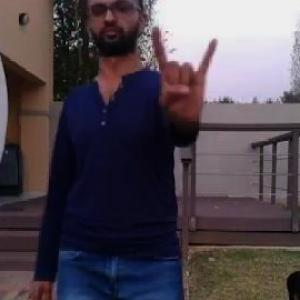takeoff-hand: (148, 19, 224, 127)
